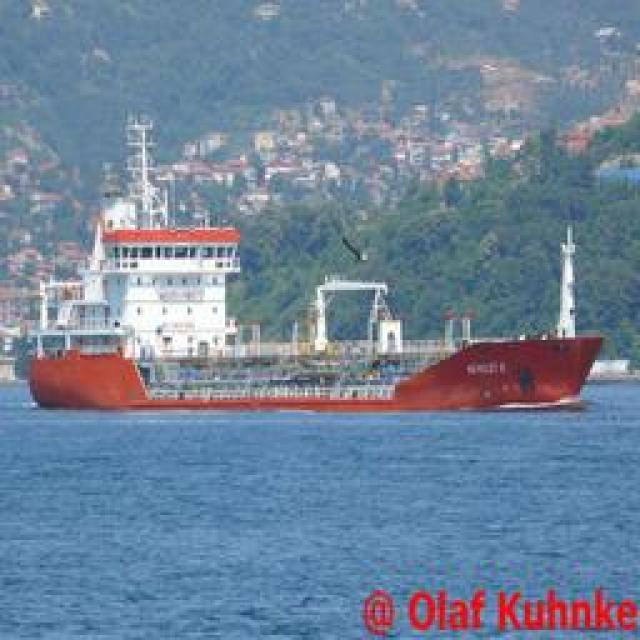CIV_Ship: (16, 308, 596, 416)
